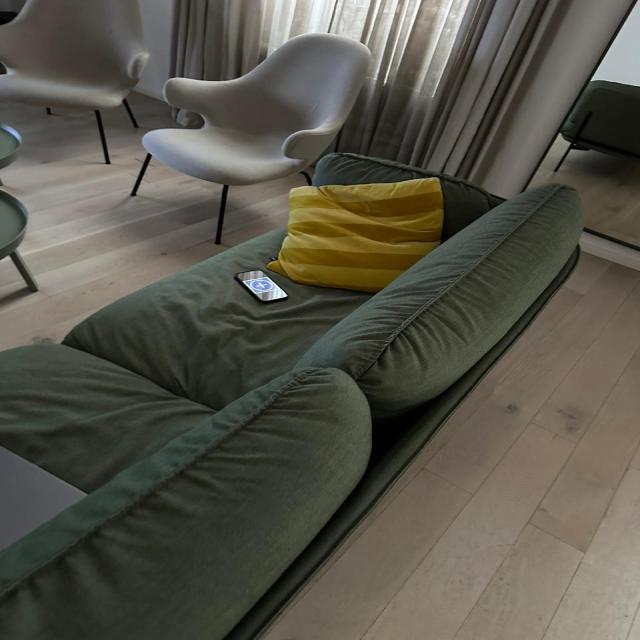Marker: (242, 276, 281, 294)
